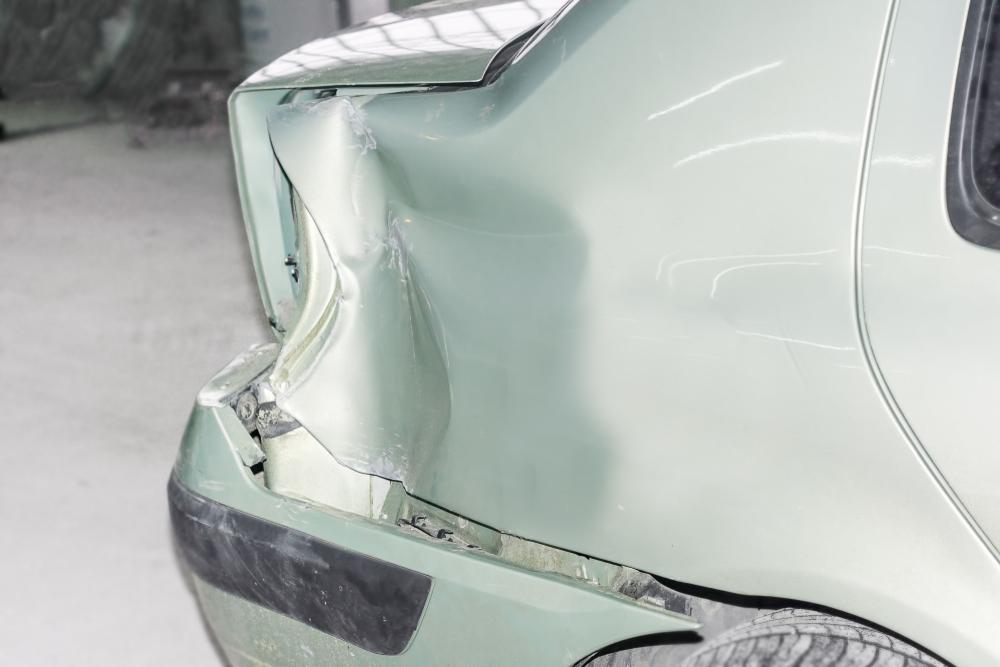dent: (306, 108, 620, 531)
